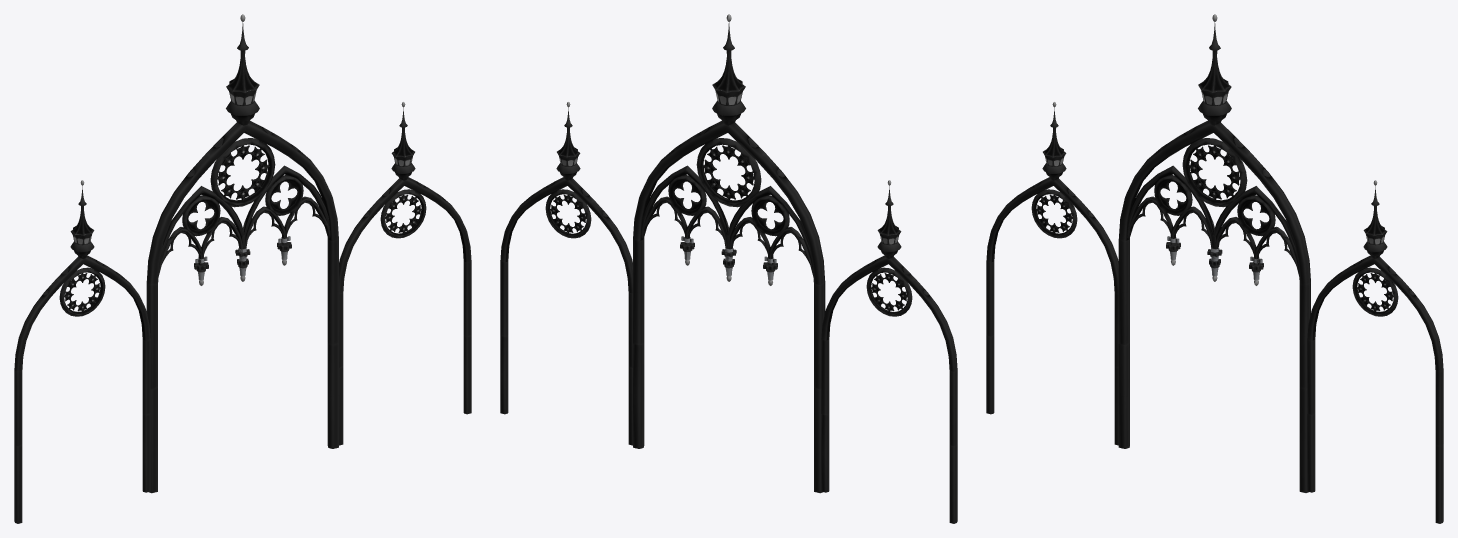
Rendered from gate4.dae.
3 views of the same model, side by side, from view 1: azimuth 30°, elevation 25°; view 2: azimuth 150°, elevation 25°; view 3: azimuth 330°, elevation 25° (orthographic).
Parts seen in each view (by area): view 1: set_gate-geom-P0; view 2: set_gate-geom-P0; view 3: set_gate-geom-P0.
Boxes of the visible parts, <box> form: set_gate-geom-P0: <box>14,14,471,523</box>; set_gate-geom-P0: <box>500,14,957,523</box>; set_gate-geom-P0: <box>986,14,1443,523</box>.
Size of the model in its own units: 15.07 by 14.37 by 0.9792.
